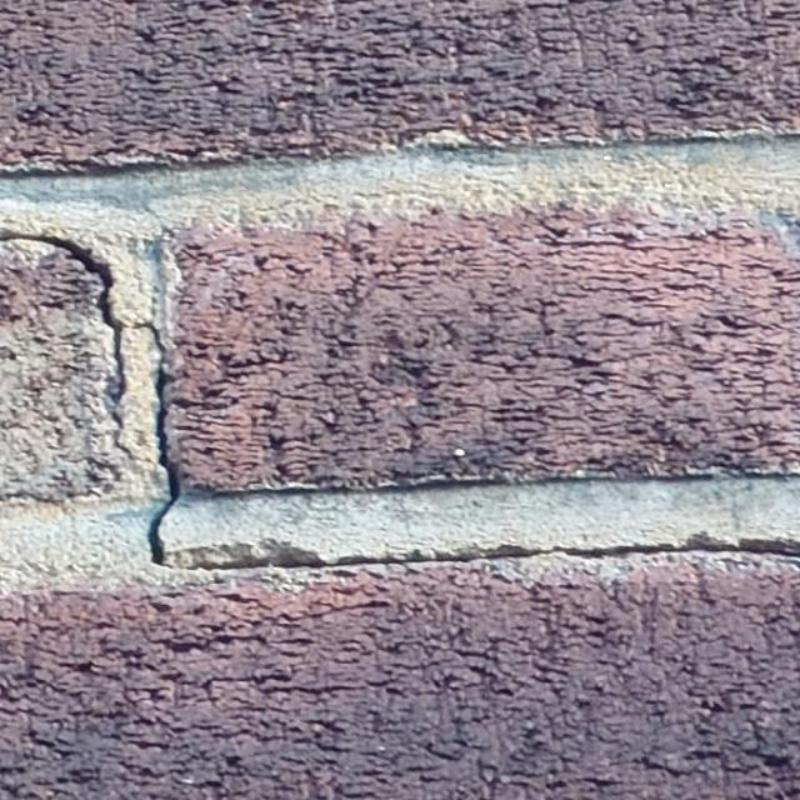crack: (1, 231, 154, 463), (162, 533, 799, 568), (148, 362, 181, 565), (132, 322, 166, 351)
